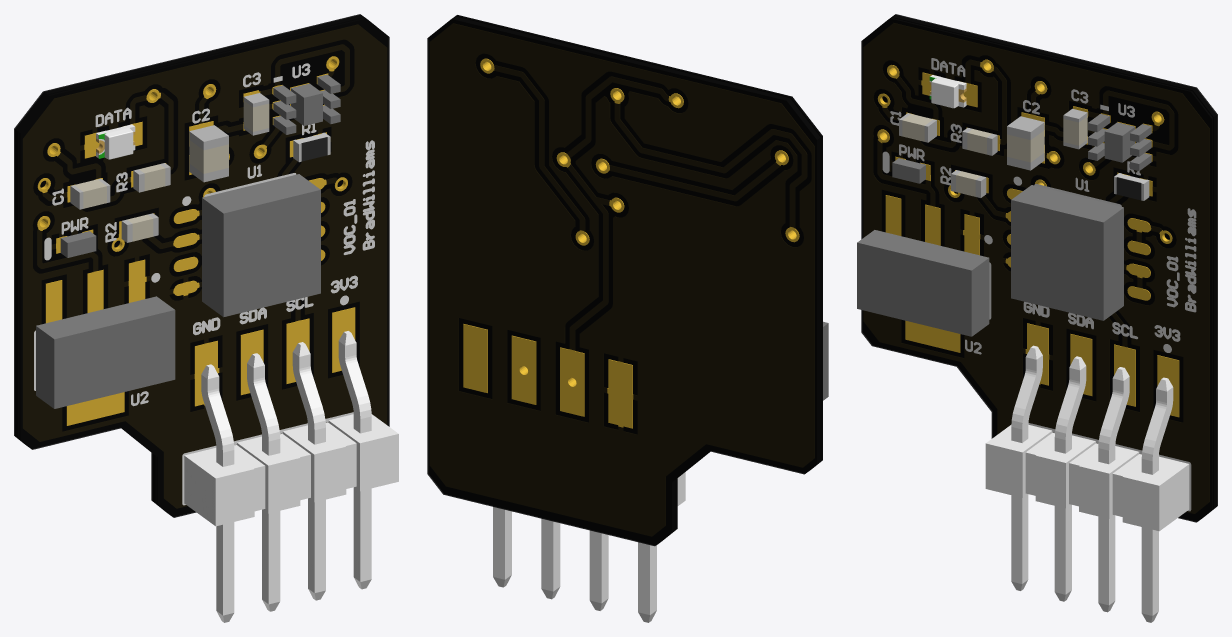
The model's file is Air_PCB.obj.
3 views of the same model, side by side, from view 1: azimuth 30°, elevation 25°; view 2: azimuth 150°, elevation 25°; view 3: azimuth 330°, elevation 25° (orthographic). The views are drawn at different scales.
Visible parts, largest first — view 1: Solder_Top, ComponentBody.21, ComponentBody, ComponentBody.3, Top, Core, Core.1, Pad.11, Pad.3, ComponentBody.2, Pad, ComponentBody.14 (+8 smaller); view 2: Solder_Bottom, Pad.11, ComponentBody.21, Core.1, Core, SDA; view 3: Solder_Top, ComponentBody.21, ComponentBody, ComponentBody.3, Top, Core, Core.1, Pad.11, Pad.3, ComponentBody.2, Pad, ComponentBody.14 (+6 smaller).
Boxes of the visible parts, left/top/right/bottom form: Solder_Top: left=21, top=19, right=389, bottom=517; ComponentBody.21: left=184, top=331, right=398, bottom=622; ComponentBody: left=202, top=174, right=320, bottom=317; ComponentBody.3: left=36, top=296, right=175, bottom=408; Top: left=34, top=63, right=374, bottom=505; Core: left=19, top=17, right=367, bottom=515; Core.1: left=15, top=14, right=364, bottom=515; Pad.11: left=194, top=307, right=355, bottom=406; Pad.3: left=45, top=259, right=145, bottom=425; ComponentBody.2: left=273, top=74, right=340, bottom=134; Pad: left=173, top=178, right=325, bottom=295; ComponentBody.14: left=189, top=125, right=228, bottom=182; Solder_Bottom: left=427, top=19, right=816, bottom=546; Pad.11: left=463, top=324, right=632, bottom=428; ComponentBody.21: left=493, top=472, right=685, bottom=622; Core.1: left=451, top=16, right=820, bottom=544; Core: left=455, top=15, right=822, bottom=538; SDA: left=556, top=93, right=683, bottom=389; Solder_Top: left=861, top=19, right=1210, bottom=522; ComponentBody.21: left=985, top=345, right=1189, bottom=622; ComponentBody: left=1011, top=185, right=1123, bottom=320; ComponentBody.3: left=857, top=230, right=989, bottom=336; Top: left=882, top=58, right=1196, bottom=511; Core: left=876, top=17, right=1212, bottom=521; Core.1: left=882, top=14, right=1216, bottom=518; Pad.11: left=1027, top=323, right=1179, bottom=417; Pad.3: left=885, top=195, right=979, bottom=352; ComponentBody.2: left=1088, top=114, right=1151, bottom=170; Pad: left=1006, top=188, right=1150, bottom=300; ComponentBody.14: left=1007, top=116, right=1044, bottom=170.
Size of the model in its own units: 2.04 by 2.91 by 0.3752.
